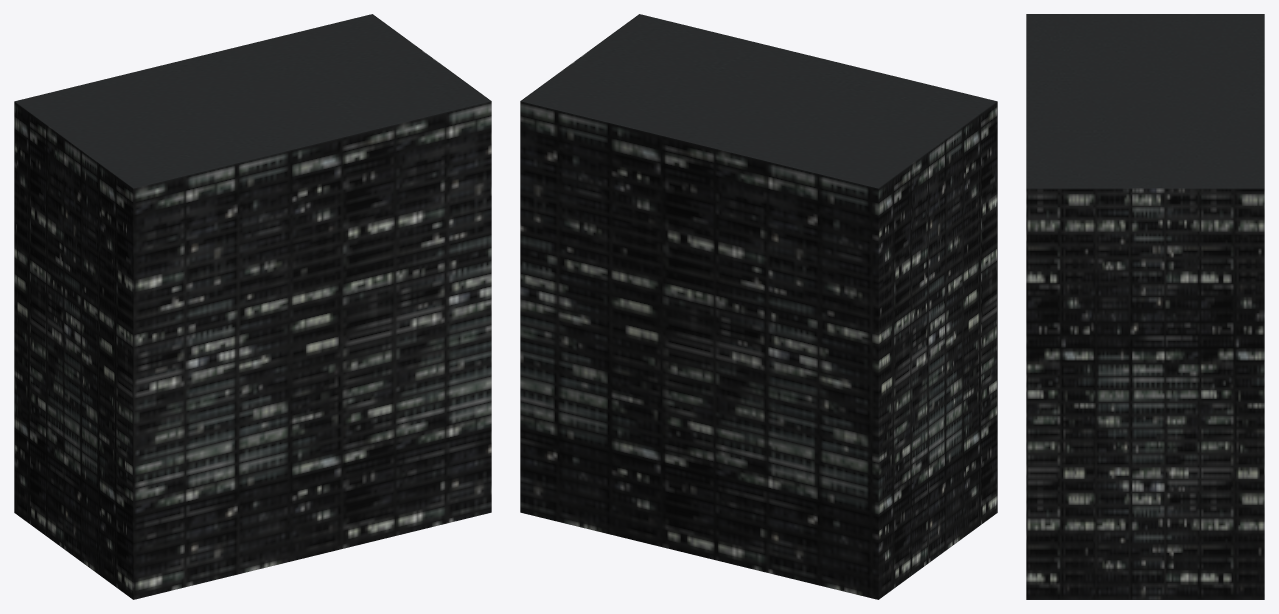
Rendered from server.glb.
The picture shows the model from 3 angles, left to right: view 1: azimuth 30°, elevation 25°; view 2: azimuth 150°, elevation 25°; view 3: azimuth 270°, elevation 25°; orthographic projection.
Visible parts, largest first — view 1: server; view 2: server; view 3: server.
Boxes of the visible parts, x1,y1,x2,y2 form: server: (14, 14, 491, 599); server: (520, 14, 997, 599); server: (1026, 14, 1264, 599).
Size of the model in its own units: 1.76 by 1.93 by 1.01.
1 material, 1 textured.
